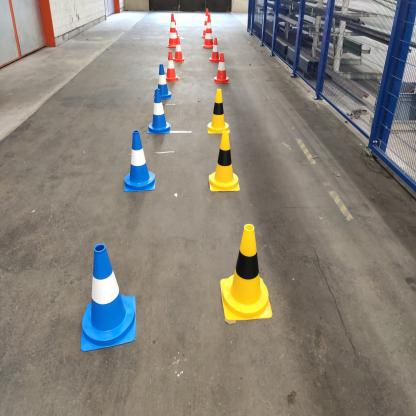Cones_small_blue: (76, 241, 140, 359), (121, 126, 162, 205), (145, 81, 174, 146), (153, 61, 173, 102)
Cones_small_orange: (161, 52, 186, 85), (172, 34, 192, 70), (213, 52, 232, 82), (206, 37, 220, 64)
Cones_small_yellow: (213, 222, 280, 325), (206, 131, 246, 191), (201, 80, 235, 132)
